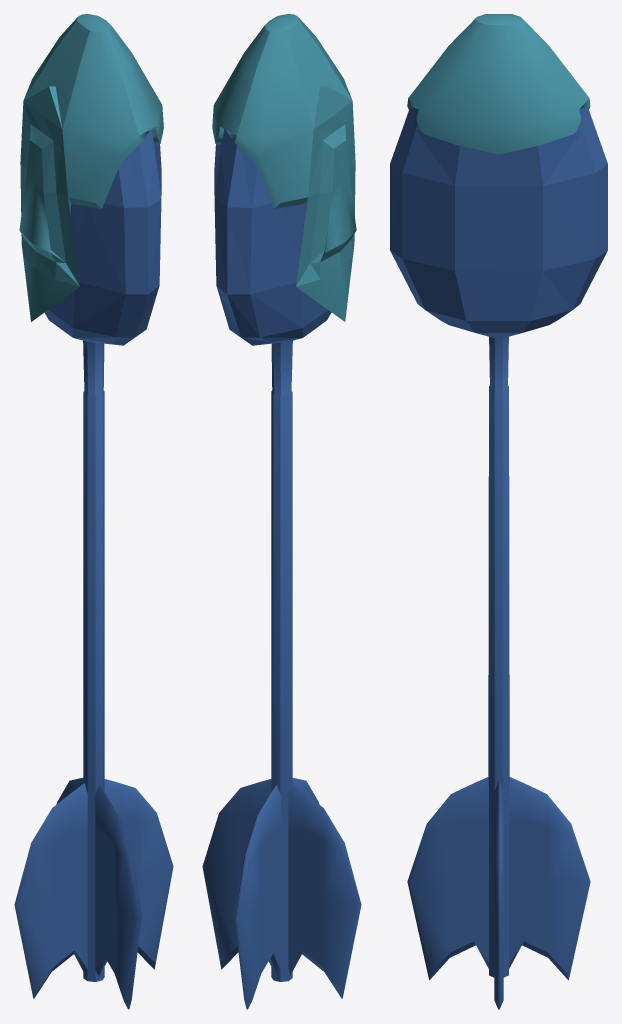
3 renders of one model, left to right at view 1: azimuth 30°, elevation 25°; view 2: azimuth 150°, elevation 25°; view 3: azimuth 270°, elevation 25°, orthographic.
Visible parts, largest first — view 1: Cylinder005, 对象003; view 2: Cylinder005, 对象003; view 3: Cylinder005, 对象003.
Boxes of the visible parts, left/top/right/bottom form: Cylinder005: left=14, top=129, right=173, bottom=1009; 对象003: left=19, top=14, right=163, bottom=321; Cylinder005: left=202, top=129, right=361, bottom=1009; 对象003: left=212, top=14, right=356, bottom=321; Cylinder005: left=390, top=107, right=607, bottom=1009; 对象003: left=407, top=14, right=590, bottom=154.
Size of the model in its own units: 37.54 by 218 by 44.67.
